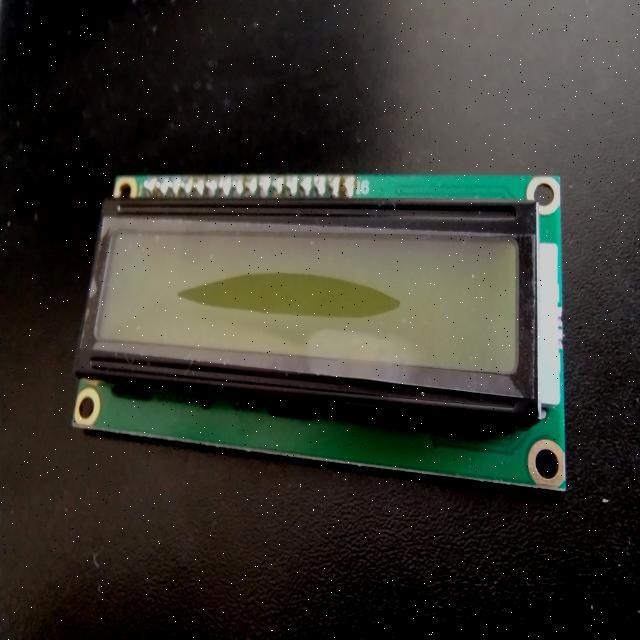lcd: (70, 171, 568, 493)
